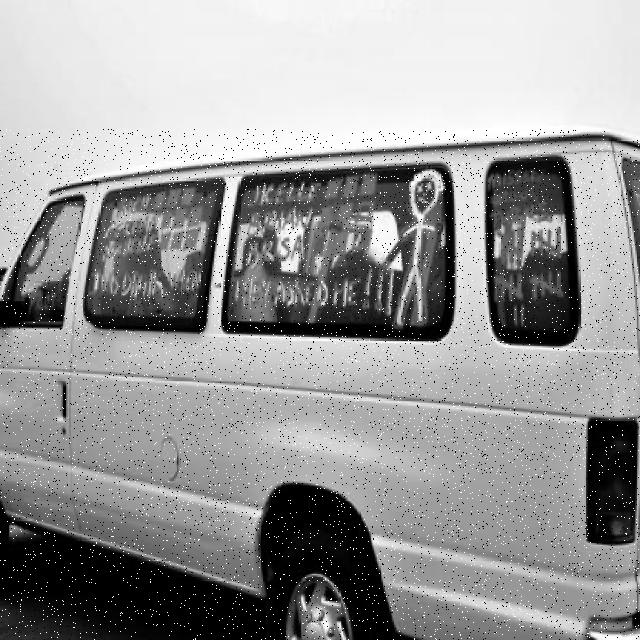Van: (0, 129, 640, 640)
